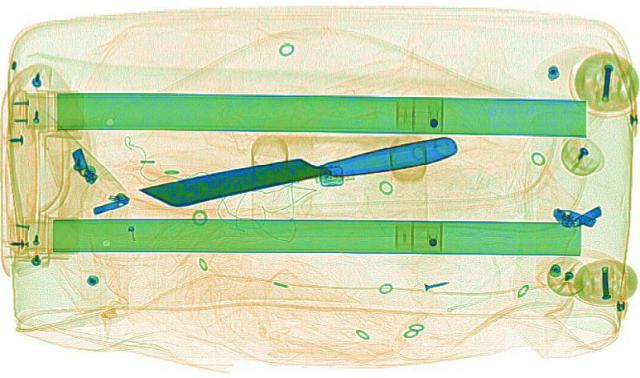Knife: (138, 128, 462, 212)
